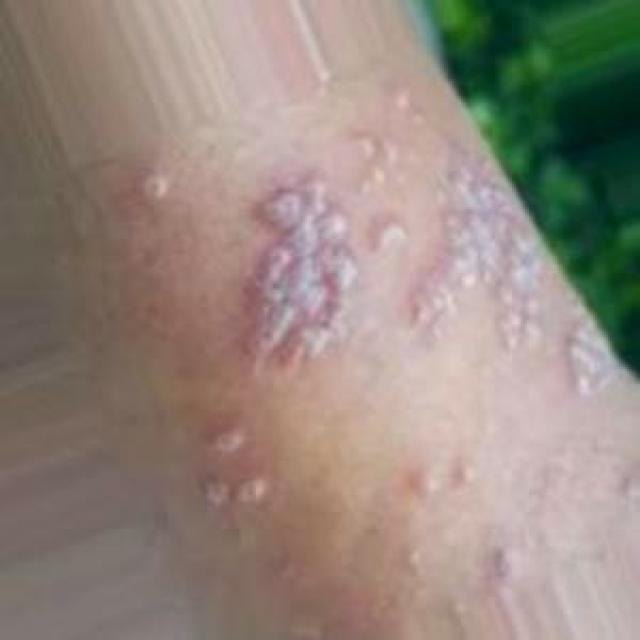Shingles: (342, 81, 549, 368), (240, 161, 358, 372), (554, 281, 617, 397), (202, 426, 272, 511), (136, 171, 180, 207)
